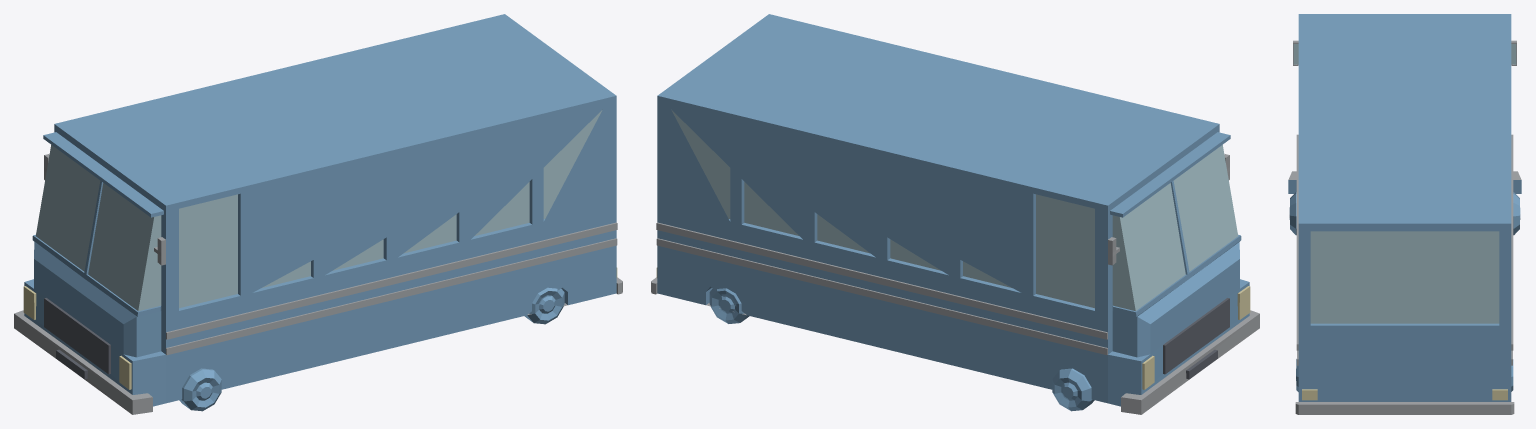
File: Bus.glb
The picture shows the model from 3 angles, left to right: view 1: azimuth 30°, elevation 25°; view 2: azimuth 150°, elevation 25°; view 3: azimuth 270°, elevation 25°; orthographic projection. The views are drawn at different scales.
Parts seen in each view (by area): view 1: Bus.obj; view 2: Bus.obj; view 3: Bus.obj.
Part boxes in pixels (box(x1,y1,x2,y2)): Bus.obj: box(14, 14, 622, 414); Bus.obj: box(651, 14, 1259, 414); Bus.obj: box(1288, 14, 1521, 414).
Size of the model in its own units: 4.09 by 1.68 by 1.74.
